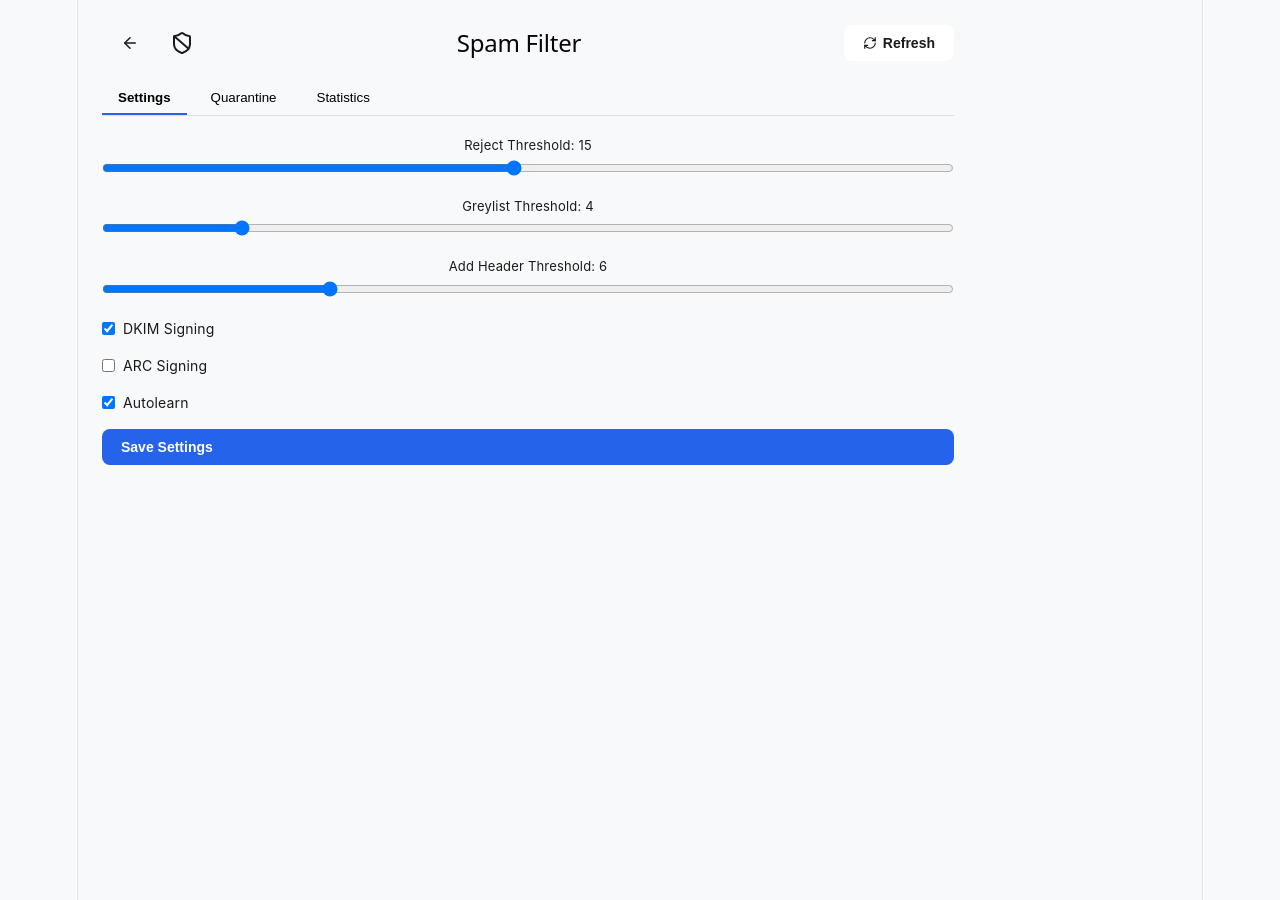
Scenario: SpamFilterManager › renders quarantine tab with empty state
The image size is (1280, 900).
expect the heading "Spam Filter" is shown: met, box [457, 26, 581, 59]
Click the button "quarantine" at [244, 98], box [195, 82, 293, 115]
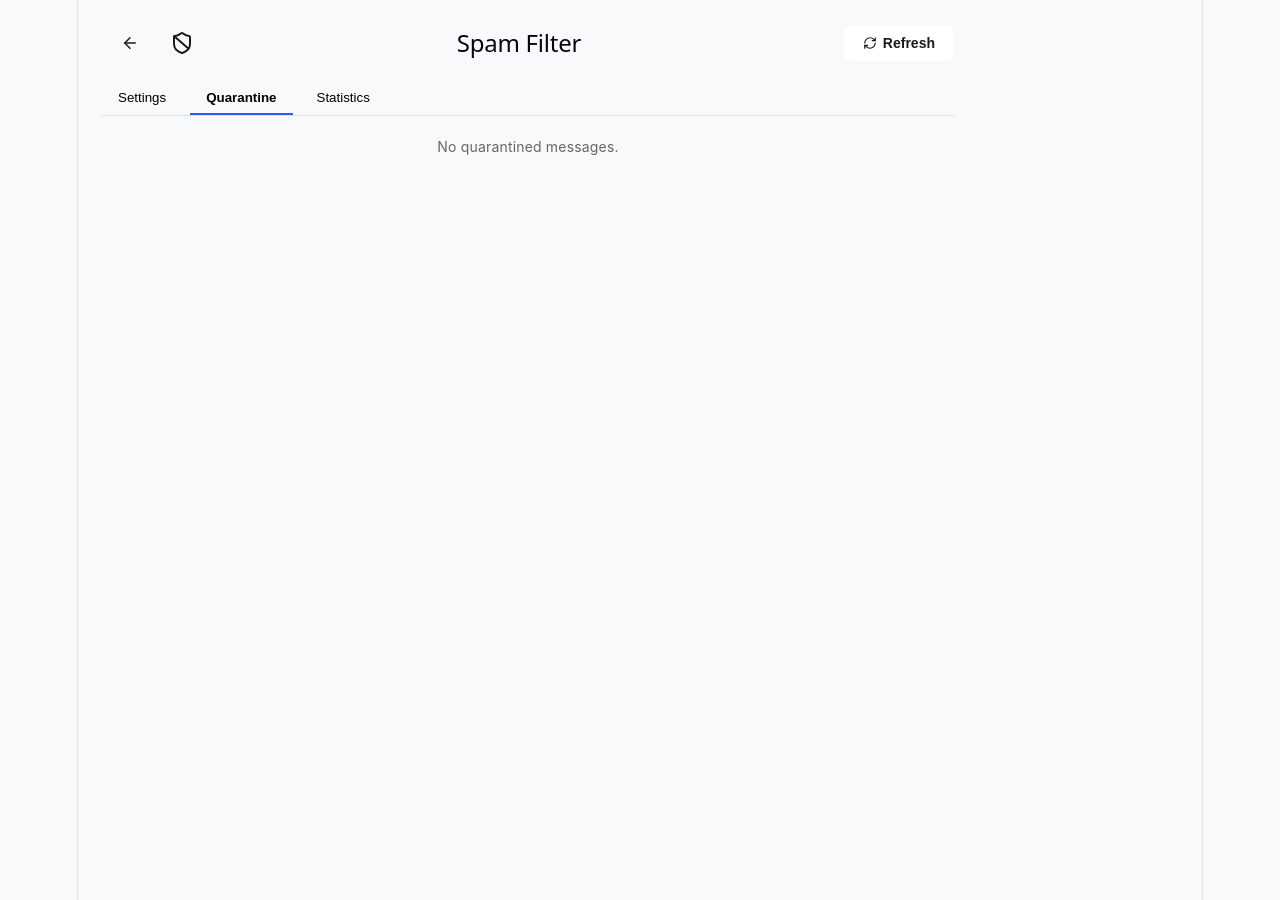
expect the text "No quarantined messages." is shown: met, box [437, 138, 619, 155]
